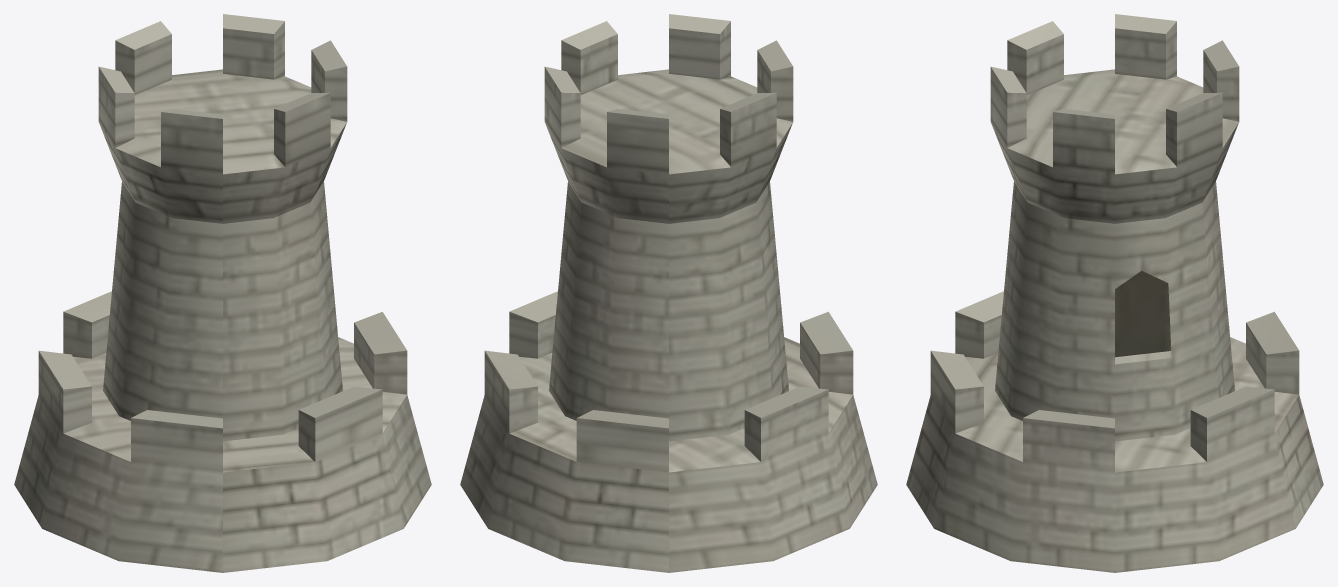
The model's file is Bunker.glb.
The picture shows the model from 3 angles, left to right: view 1: azimuth 30°, elevation 25°; view 2: azimuth 150°, elevation 25°; view 3: azimuth 270°, elevation 25°; orthographic projection.
Visible parts, largest first — view 1: Bunker; view 2: Bunker; view 3: Bunker.
Boxes of the visible parts, <box> form: Bunker: <box>14,14,431,572</box>; Bunker: <box>460,14,877,572</box>; Bunker: <box>906,14,1323,572</box>.
Size of the model in its own units: 0.0193 by 0.0213 by 0.0193.
1 material, 1 textured.
